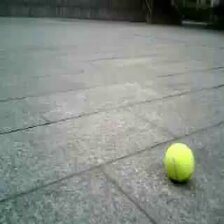tennis: (163, 143, 193, 179)
